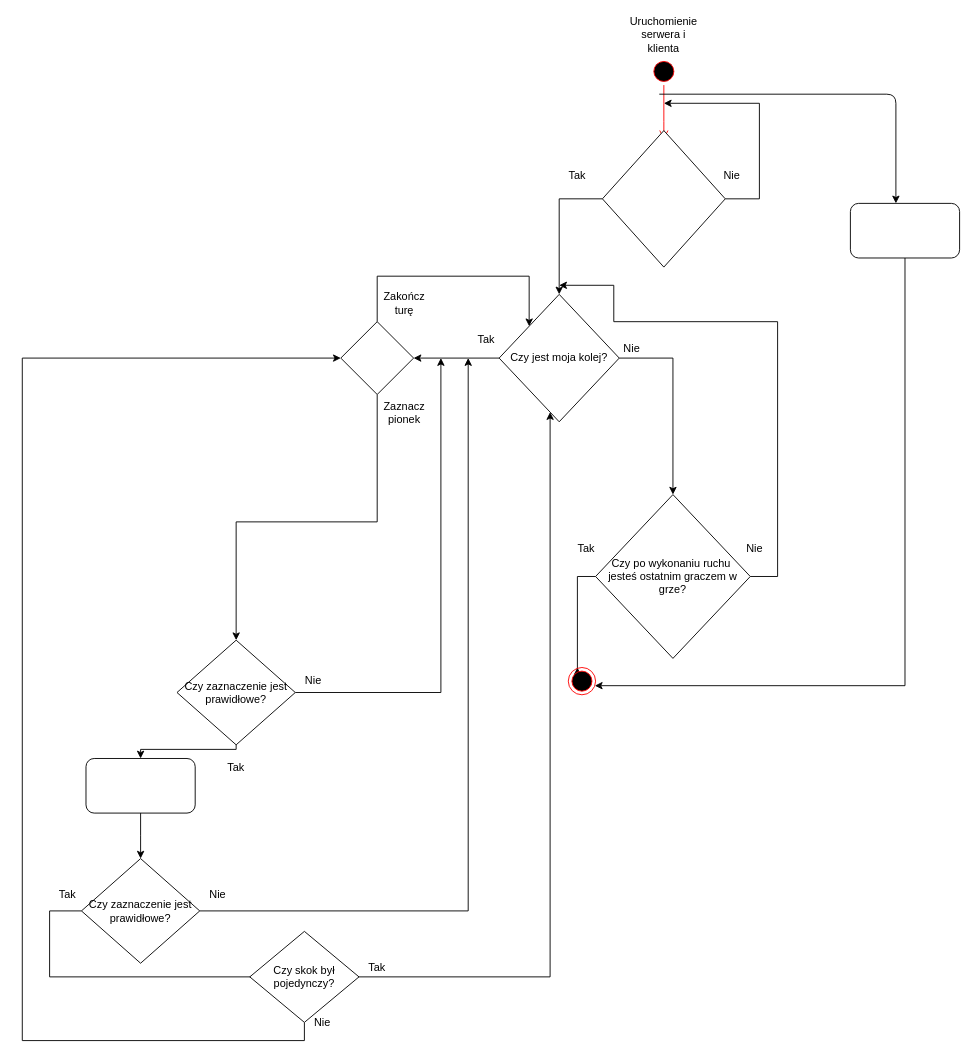
Some shapes in this 976 by 1064 pixel diagram are drawn without their labels. Here are the shapes that lost their labels. From the top down, the centre of each, then its label:
At (663,198): "Czy wszyscy gracze dołączyli".
At (904,230): "Wyłącz klienta".
At (140,785): "Zaznacz pole do przesunięcia".
